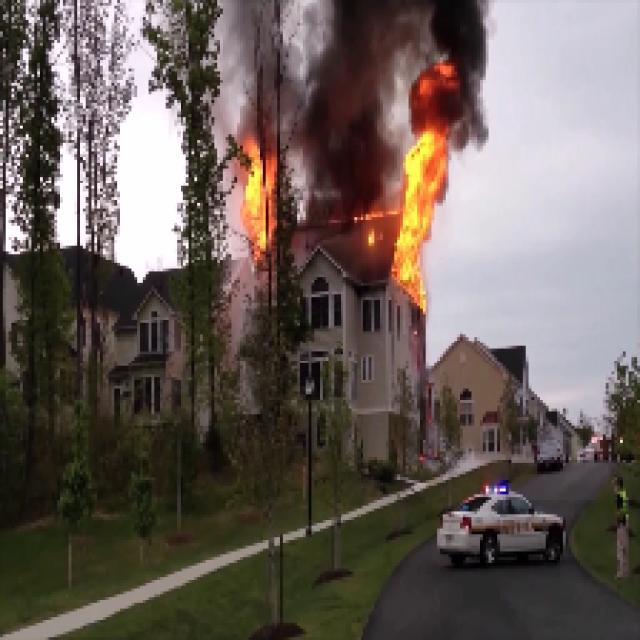fire: (391, 136, 445, 292)
smoke: (307, 0, 395, 204), (419, 4, 480, 130)
